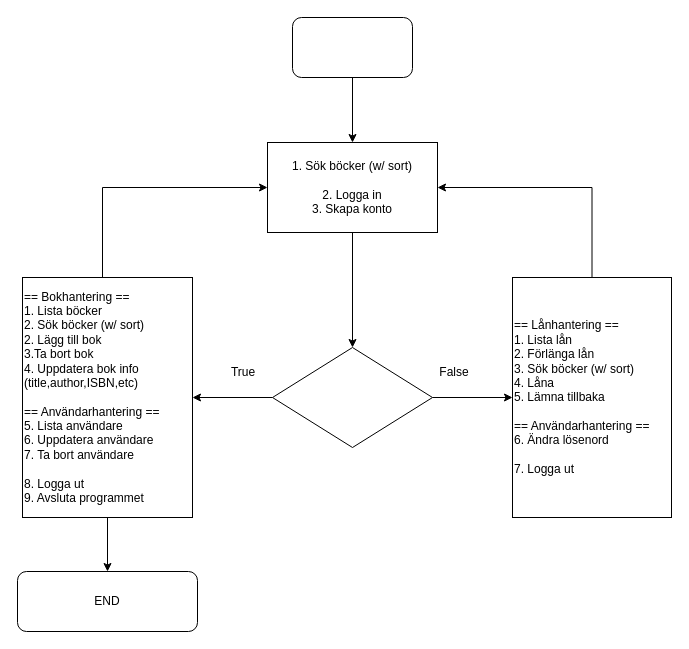
This 689x649 diagram has some shape labels left out. The shapes that lost their labels are listed below. From the top down, each one's box as (x1, y1, x2, y2) in pixels, then its label:
(292, 16, 412, 78): START
(272, 346, 432, 448): Admin?
